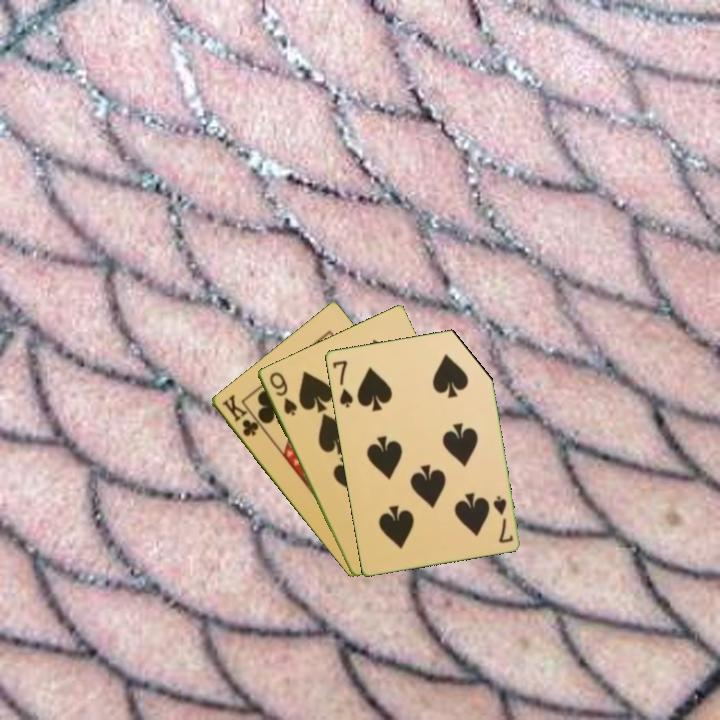7s: (489, 492, 516, 546), (329, 357, 356, 410)
9s: (265, 368, 300, 419)
Kc: (218, 391, 261, 440)
